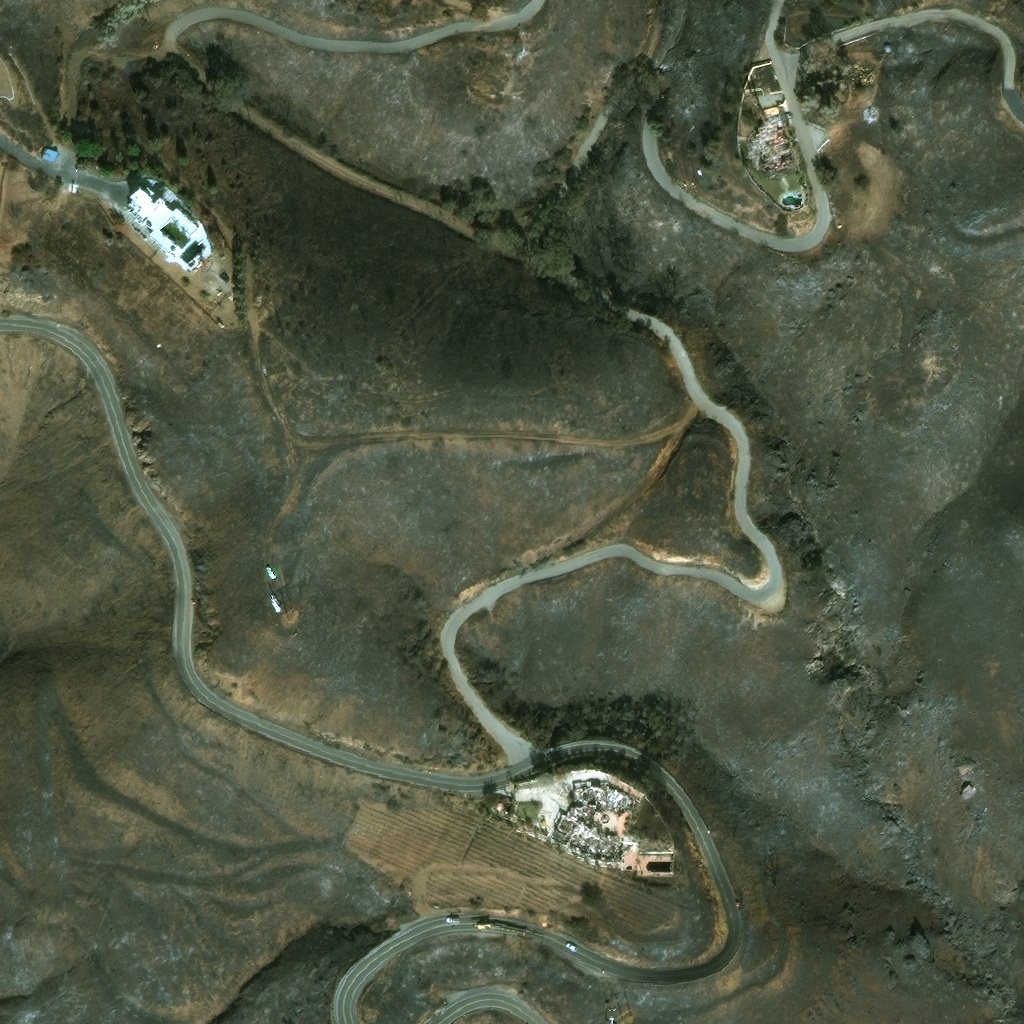0 no-damage: (125, 182, 215, 271), (41, 145, 57, 159)
3 destroyed: (552, 801, 618, 856), (751, 101, 796, 174), (571, 779, 627, 811), (866, 98, 875, 114)
